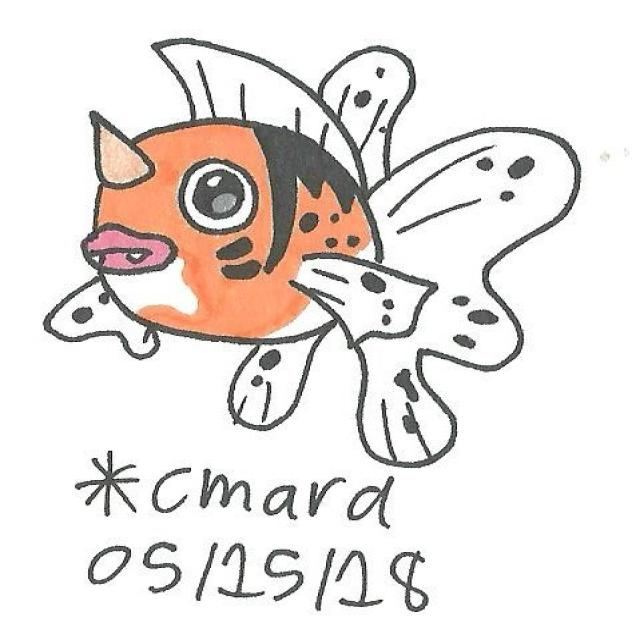Seaking: (31, 23, 585, 470)
